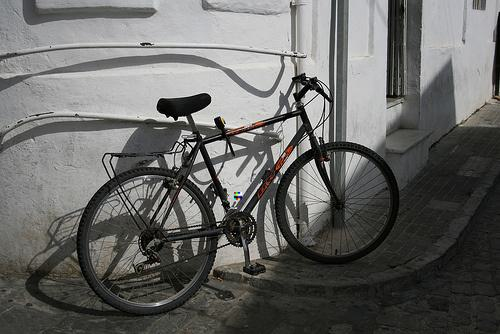car: (76, 74, 401, 318)
